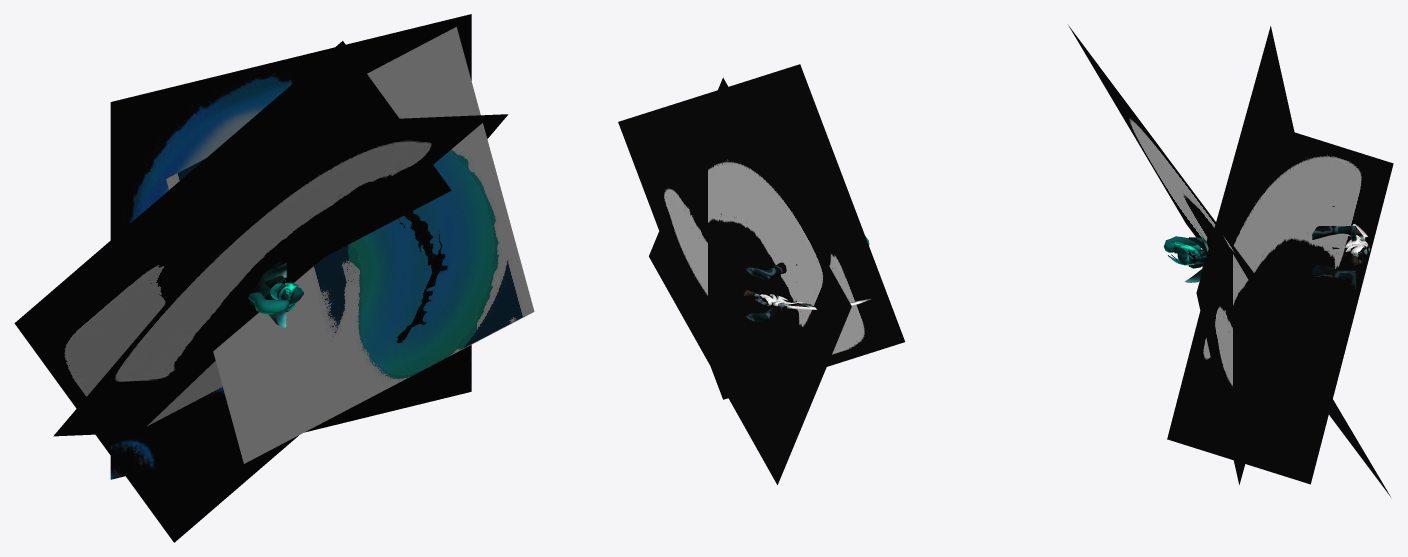
The model's file is herowarden_mdx.gltf.
The picture shows the model from 3 angles, left to right: view 1: azimuth 30°, elevation 25°; view 2: azimuth 150°, elevation 25°; view 3: azimuth 270°, elevation 25°; orthographic projection. The views are drawn at different scales.
Visible parts, largest first — view 1: PA_Arcana_Model; view 2: PA_Arcana_Model; view 3: PA_Arcana_Model.
Boxes of the visible parts, x1,y1,x2,y2 form: PA_Arcana_Model: (14,14,534,542); PA_Arcana_Model: (618,64,904,484); PA_Arcana_Model: (1068,25,1393,496).
Bounding box in the file's own units: 585 × 553 × 322.
Materials: 4 (4 with a texture image).
